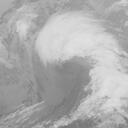cyclone: (35, 26, 107, 95)
